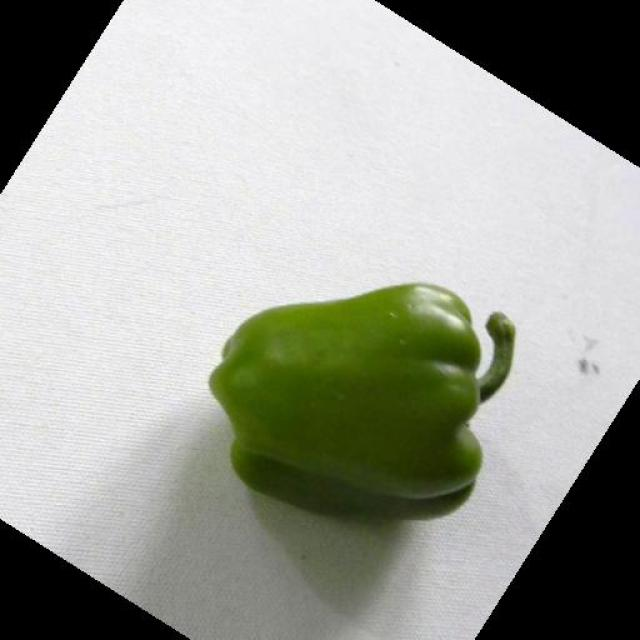Fresh_Capsicum: (171, 200, 543, 558)
